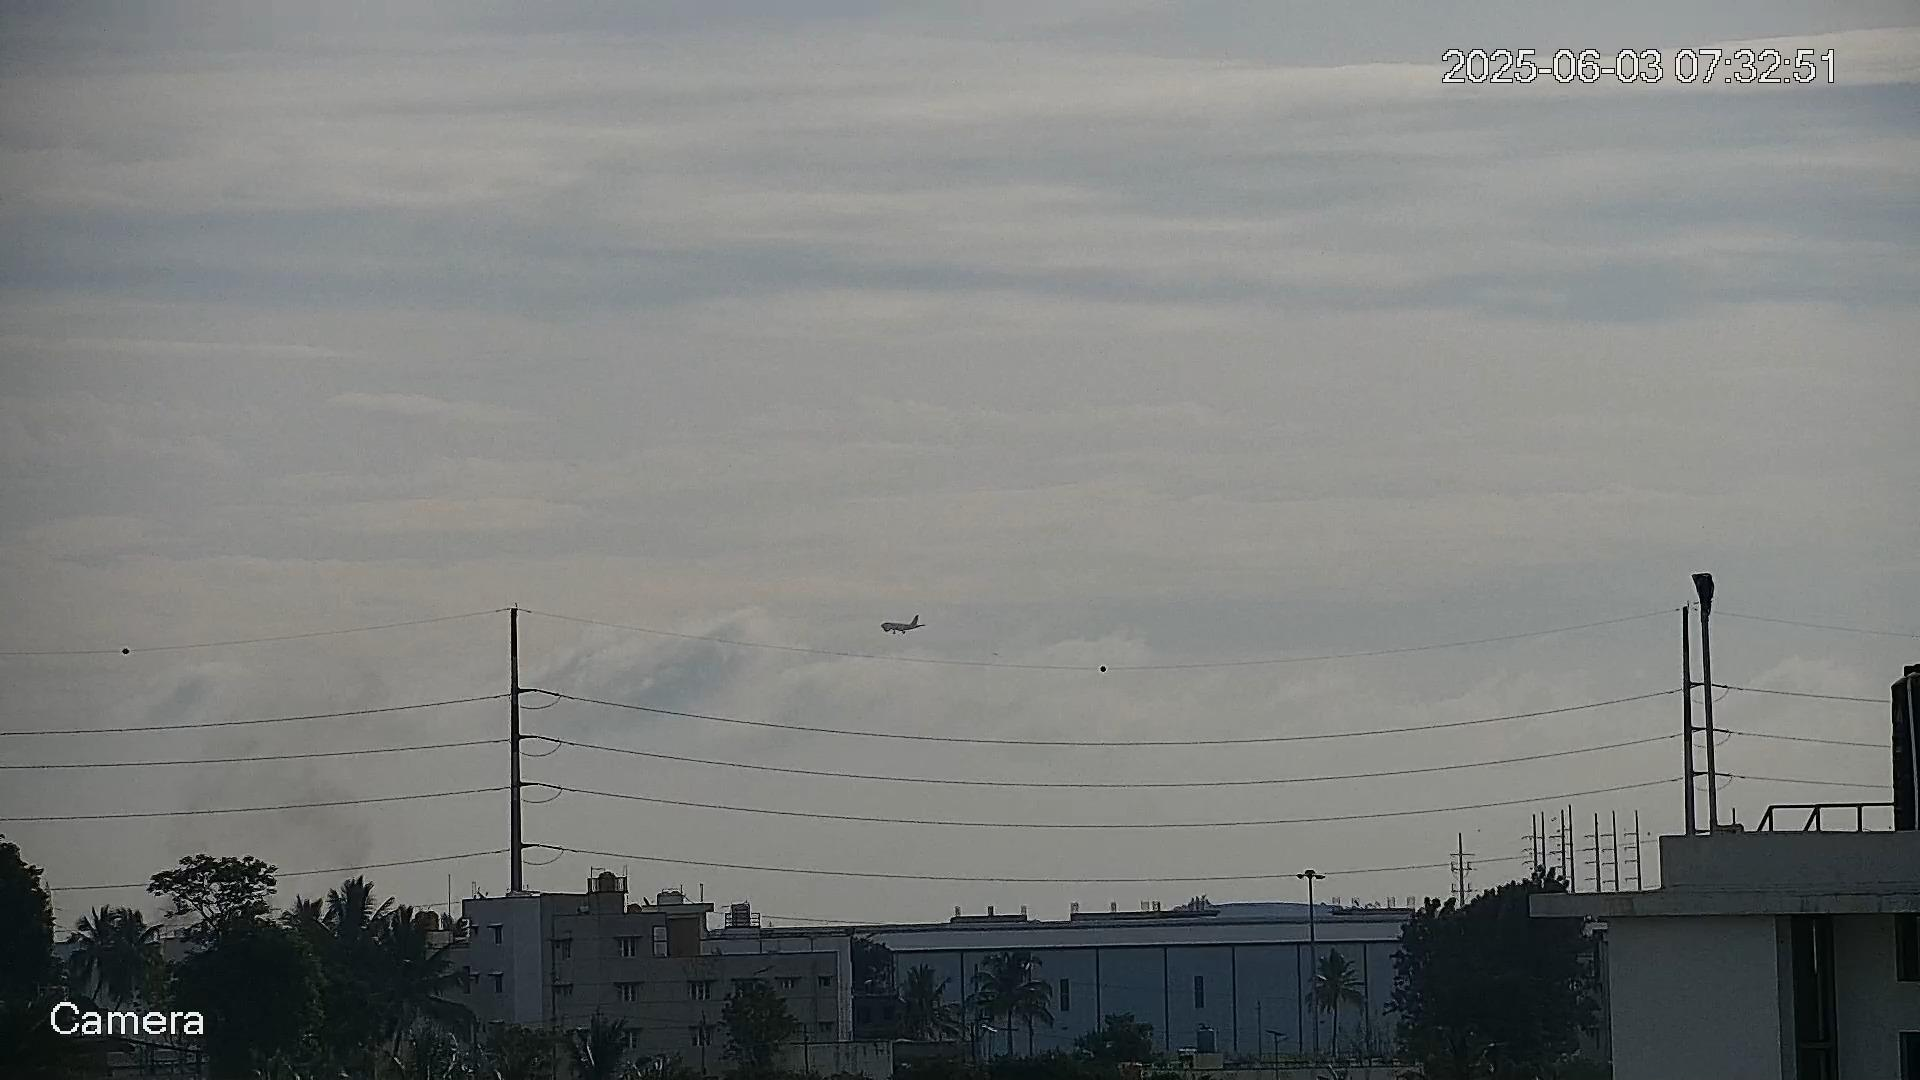Aircraft: (880, 613, 923, 637)
